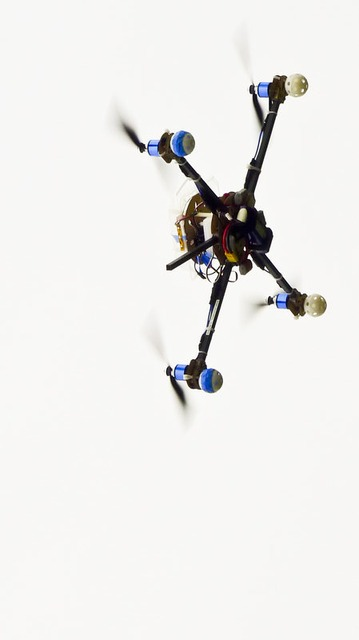drone: (121, 72, 326, 404)
